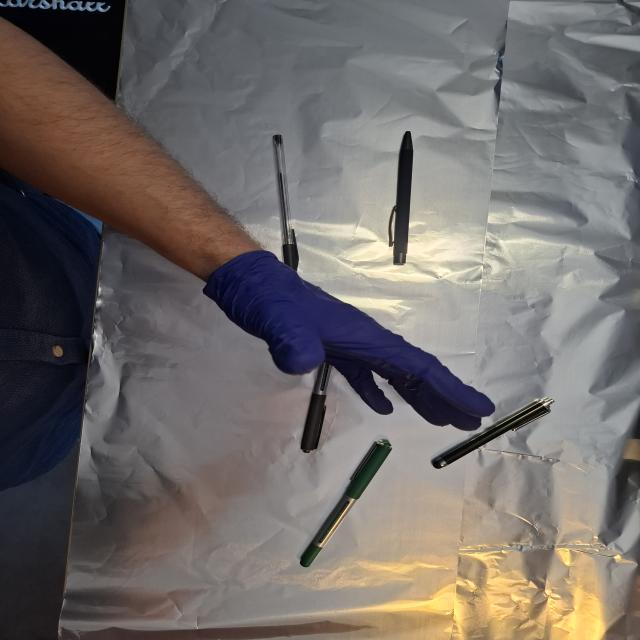glove_on: (202, 248, 499, 435)
